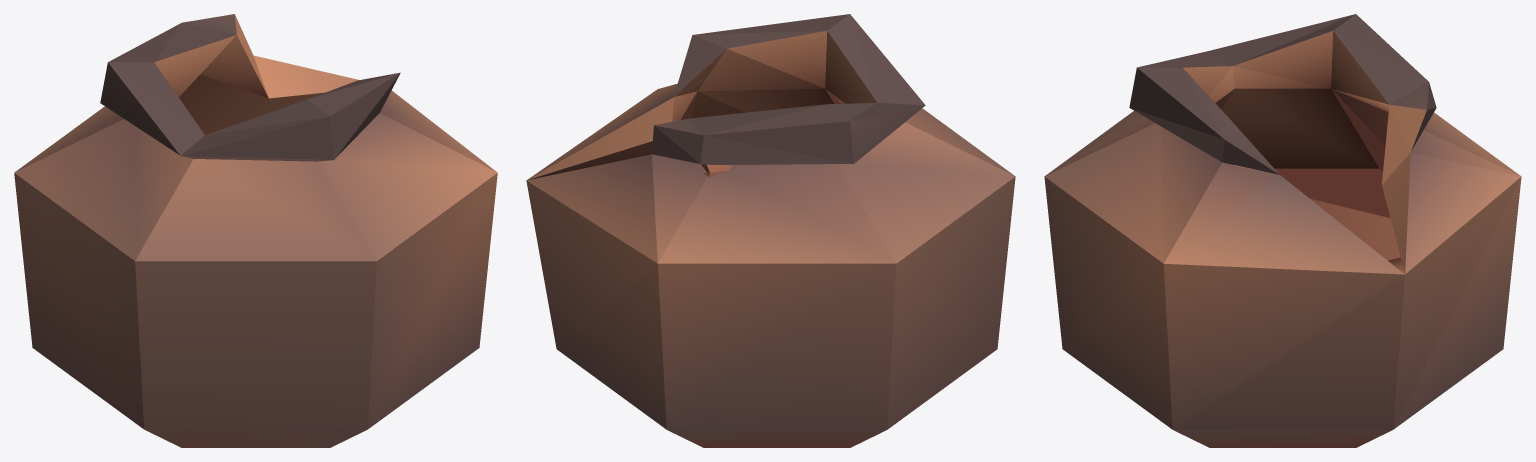
The model's file is Mixed_Vase_02.fbx.
3 renders of one model, left to right at view 1: azimuth 30°, elevation 25°; view 2: azimuth 150°, elevation 25°; view 3: azimuth 270°, elevation 25°, orthographic.
Visible parts, largest first — view 1: Vase_02.001; view 2: Vase_02.001; view 3: Vase_02.001.
Part boxes in pixels (x1,y1,x2,y2): Vase_02.001: (14,14,497,447); Vase_02.001: (526,14,1015,447); Vase_02.001: (1044,14,1521,447).
Size of the model in its own units: 131 by 111 by 147.
